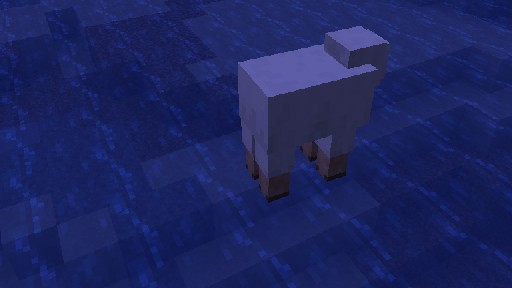sheep: (237, 24, 391, 202)
